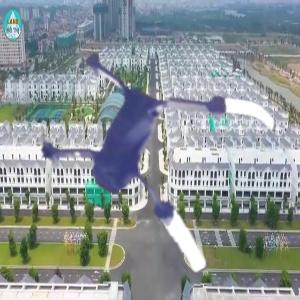drone: (10, 21, 285, 296)
